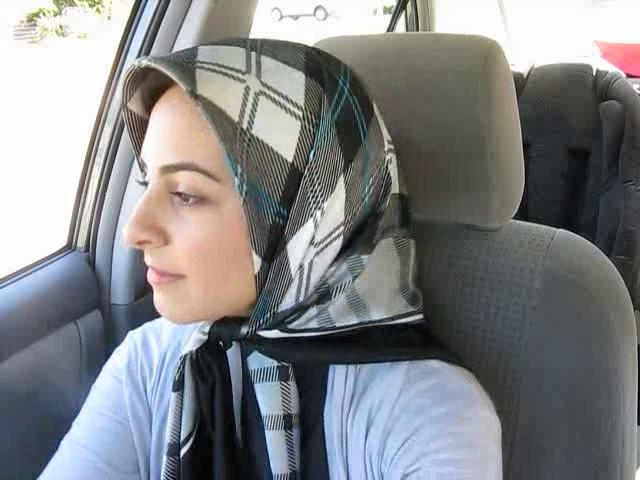no_yawn: (138, 253, 196, 292)
open_eyeR: (158, 175, 226, 217)
